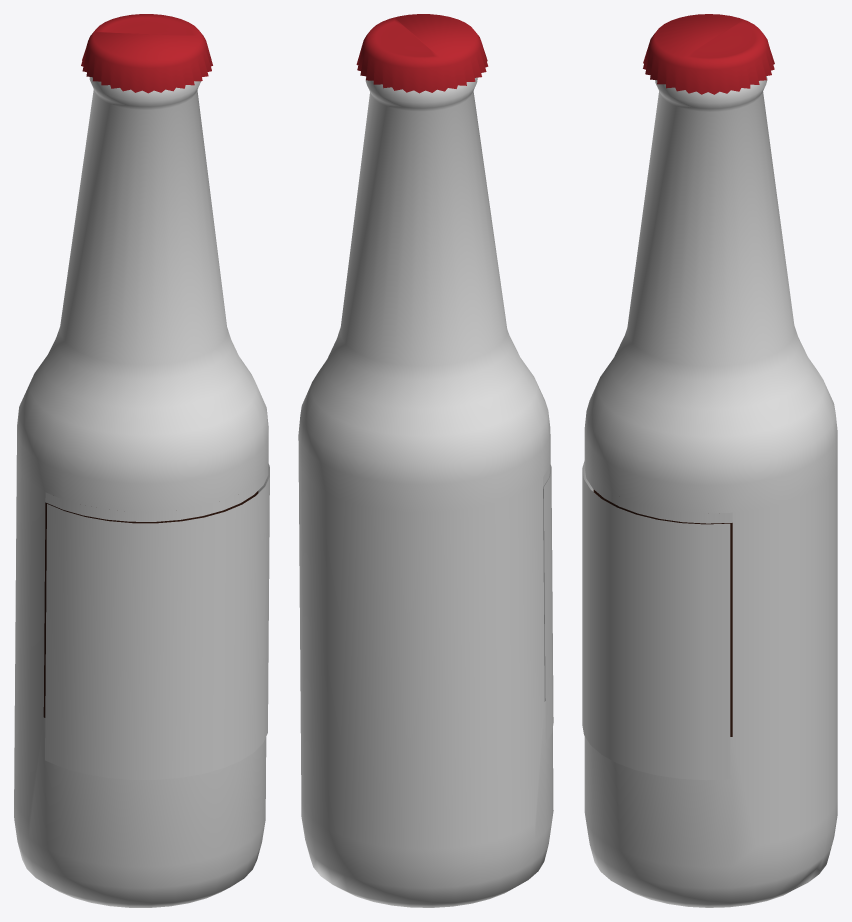
Rendered from cerveza 1.fbx.
The picture shows the model from 3 angles, left to right: view 1: azimuth 30°, elevation 25°; view 2: azimuth 150°, elevation 25°; view 3: azimuth 270°, elevation 25°; orthographic projection.
Visible parts, largest first — view 1: Círculo.004, Círculo.009, tapa.003, Círculo.008; view 2: Círculo.004, tapa.003, Círculo.009; view 3: Círculo.004, Círculo.009, tapa.003, Círculo.008.
Part boxes in pixels (x1=…): Círculo.004: x1=14, y1=77, x2=268, y2=907; Círculo.009: x1=45, y1=464, x2=269, y2=779; tapa.003: x1=81, y1=14, x2=212, y2=93; Círculo.008: x1=43, y1=491, x2=258, y2=717; Círculo.004: x1=298, y1=76, x2=553, y2=907; tapa.003: x1=356, y1=14, x2=488, y2=93; Círculo.009: x1=543, y1=465, x2=553, y2=742; Círculo.004: x1=584, y1=76, x2=837, y2=907; Círculo.009: x1=582, y1=461, x2=730, y2=780; tapa.003: x1=643, y1=14, x2=774, y2=94; Círculo.008: x1=593, y1=489, x2=732, y2=736.
Bounding box in the file's own units: 23.9 × 85.73 × 23.77.
